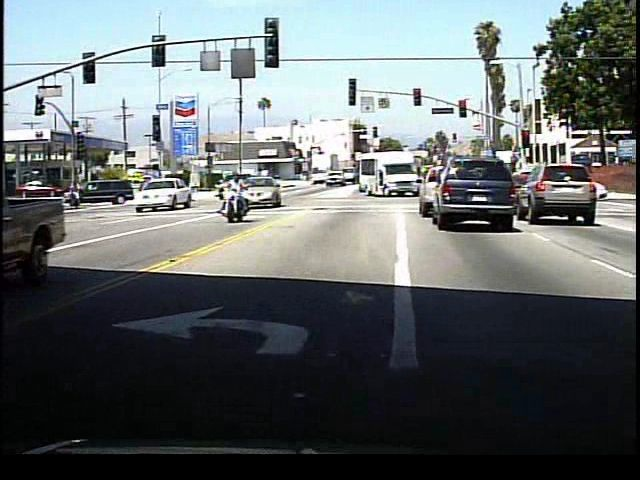person: (221, 174, 251, 226)
